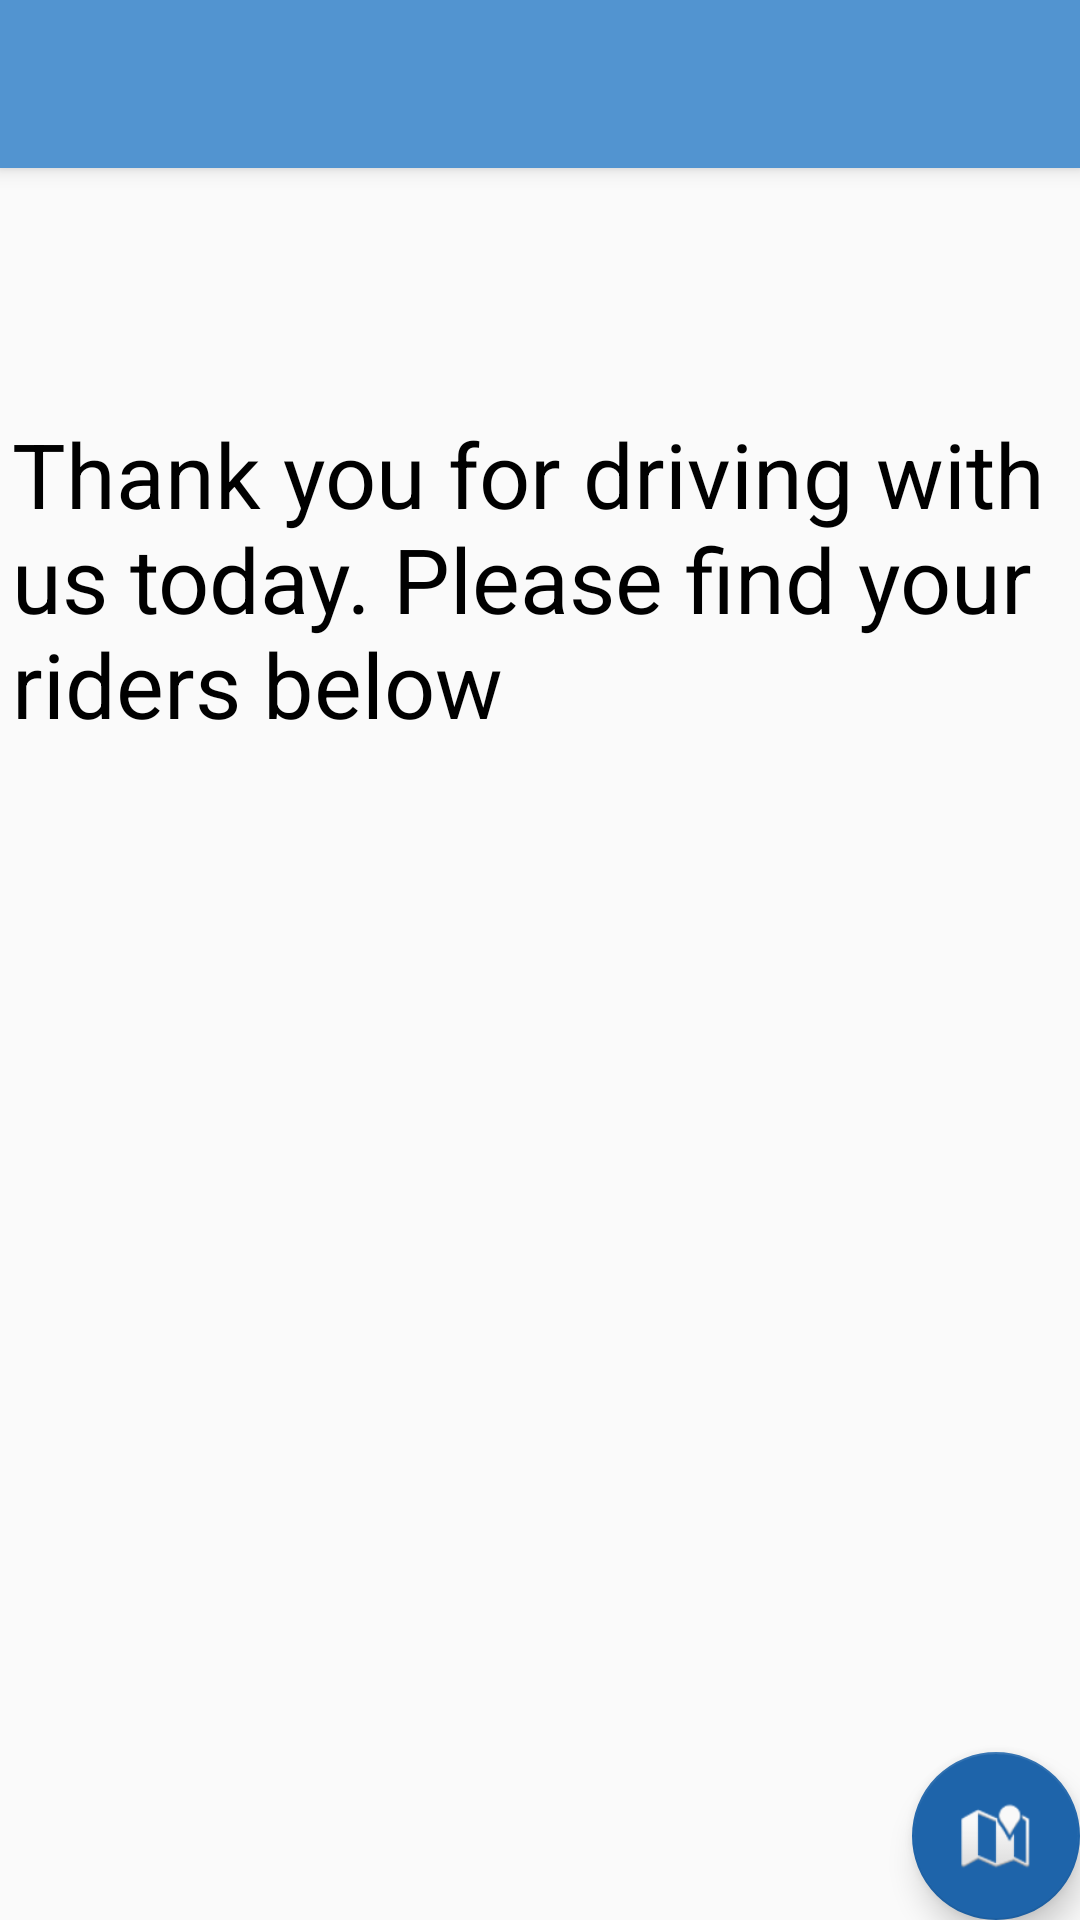

Icon click points for this 1080x1920 phone screenshot, format (x=x, y=y):
map: (x=996, y=1836)
